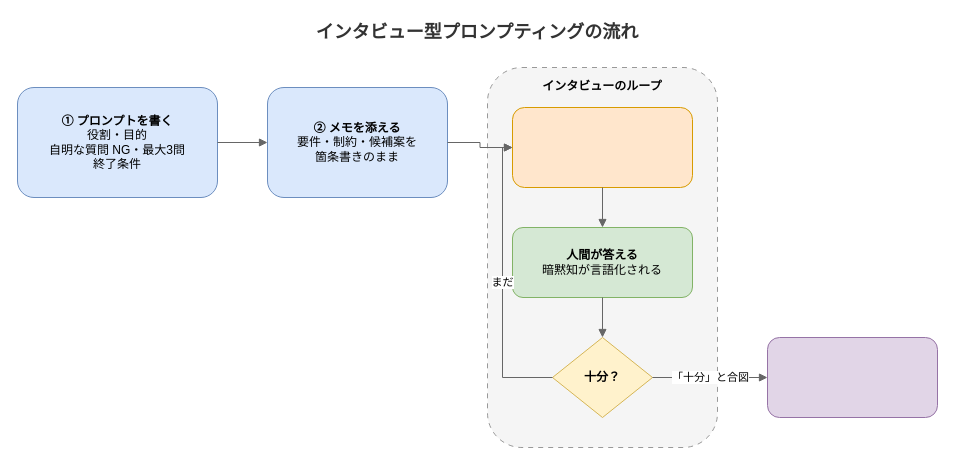
Some shapes in this 955 by 465 pixel diagram are drawn without their labels. Here are the shapes that lost their labels. From the top down, the centre of each, then its label:
(602,147): AI が質問する 前提・判断基準・制約を 最大3問ずつ
(852,377): ③ 成果物を作らせる トレードオフ表 構成案・まとめ
